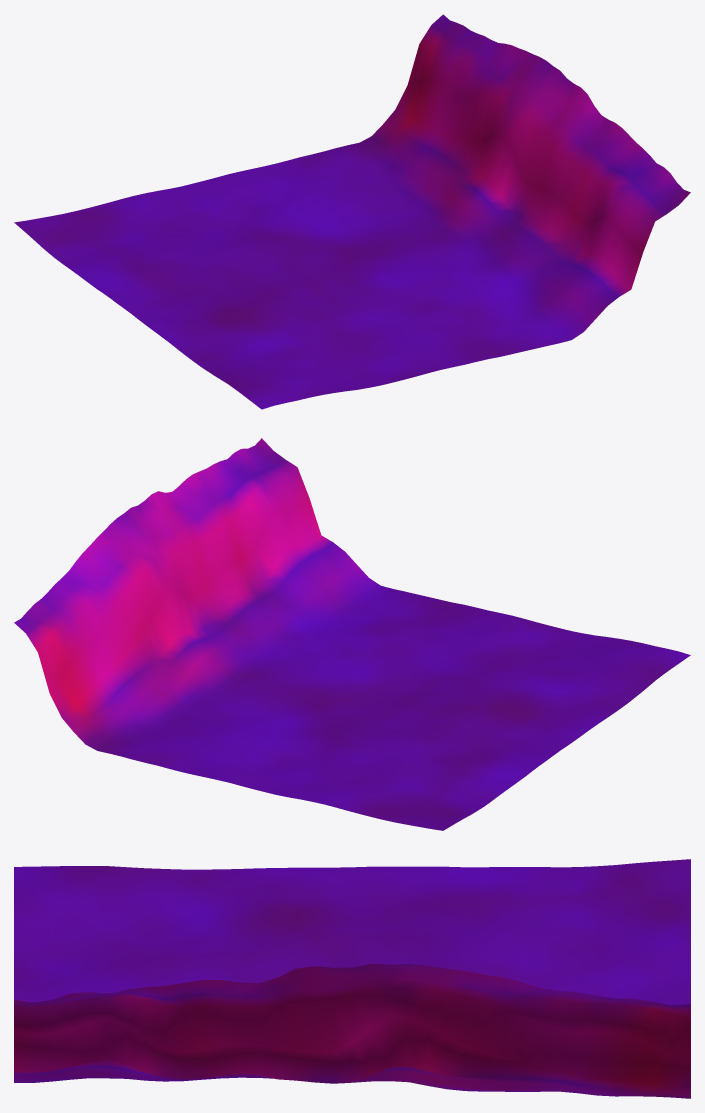
The model's file is ground_23.glb.
The picture shows the model from 3 angles, top to bottom: view 1: azimuth 30°, elevation 25°; view 2: azimuth 150°, elevation 25°; view 3: azimuth 270°, elevation 25°; orthographic projection. The views are drawn at different scales.
Visible parts, largest first — view 1: Ground_23; view 2: Ground_23; view 3: Ground_23.
Boxes of the visible parts, x1=… form: Ground_23: x1=14, y1=14, x2=690, y2=409; Ground_23: x1=14, y1=438, x2=690, y2=830; Ground_23: x1=14, y1=859, x2=690, y2=1098.
Size of what is drawn, in the model's own units: 36 by 11.61 by 36.
